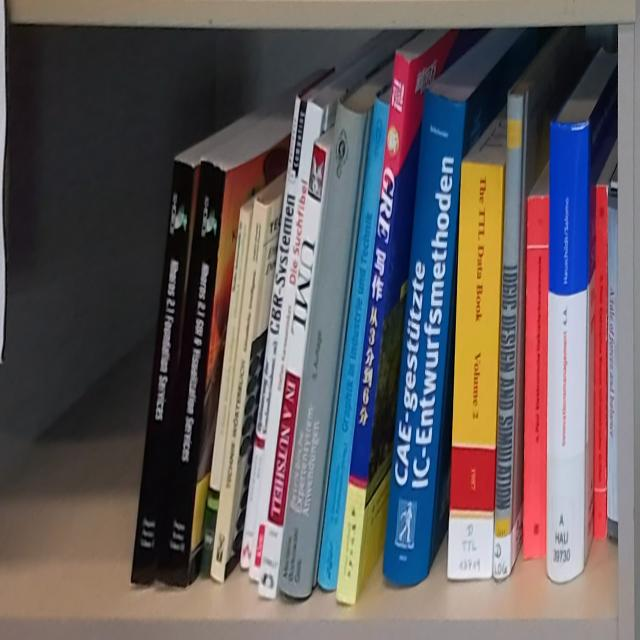Book Spine: (277, 98, 368, 599), (382, 89, 467, 591), (335, 49, 411, 607), (248, 103, 324, 585), (318, 96, 390, 591), (239, 95, 307, 573), (258, 141, 328, 600), (155, 159, 227, 589), (130, 159, 196, 590), (210, 197, 272, 585), (449, 164, 504, 582), (547, 117, 589, 587), (199, 207, 252, 576), (491, 94, 526, 581), (523, 195, 548, 560), (595, 186, 607, 541), (607, 193, 619, 546)
